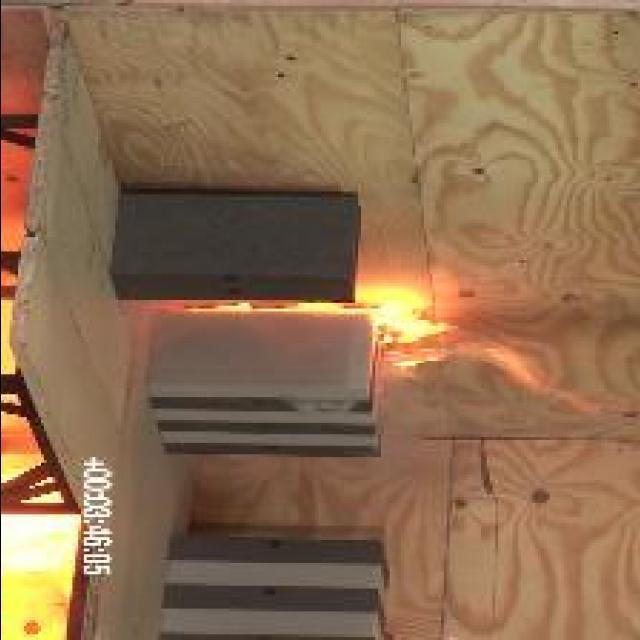Fire: (344, 290, 602, 416)
